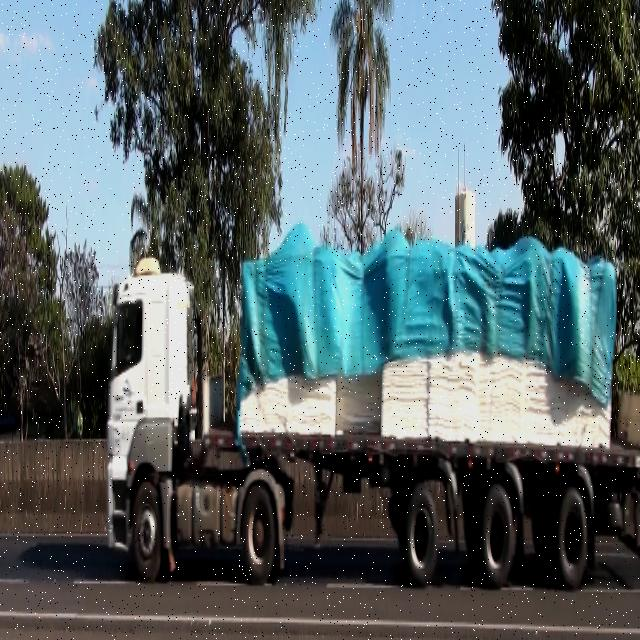-axle: (126, 472, 165, 590), (403, 480, 439, 597), (554, 482, 591, 592), (478, 482, 515, 592), (241, 485, 276, 585)
